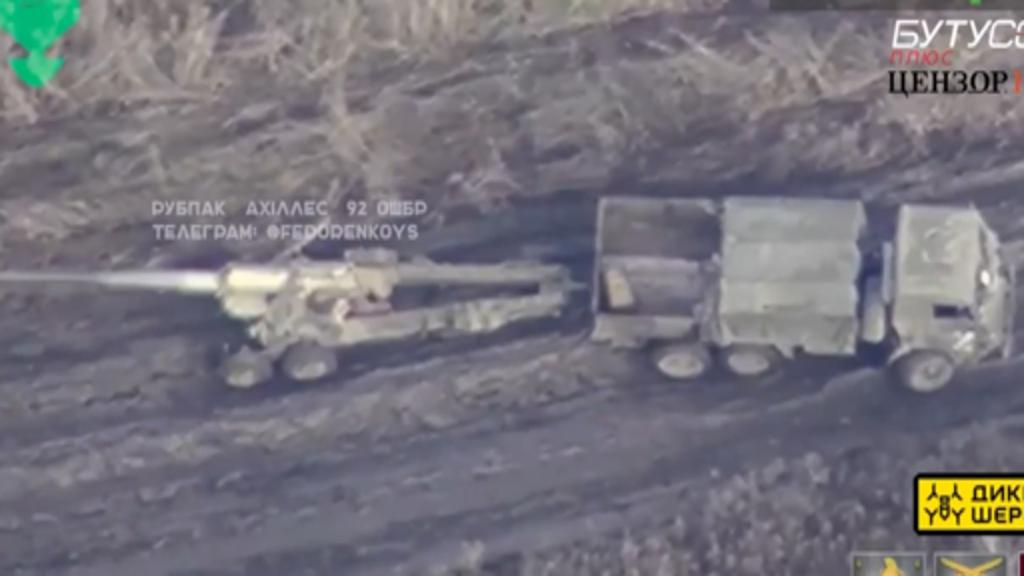ART: (0, 240, 572, 387)
TRUCK: (584, 184, 1010, 392)
